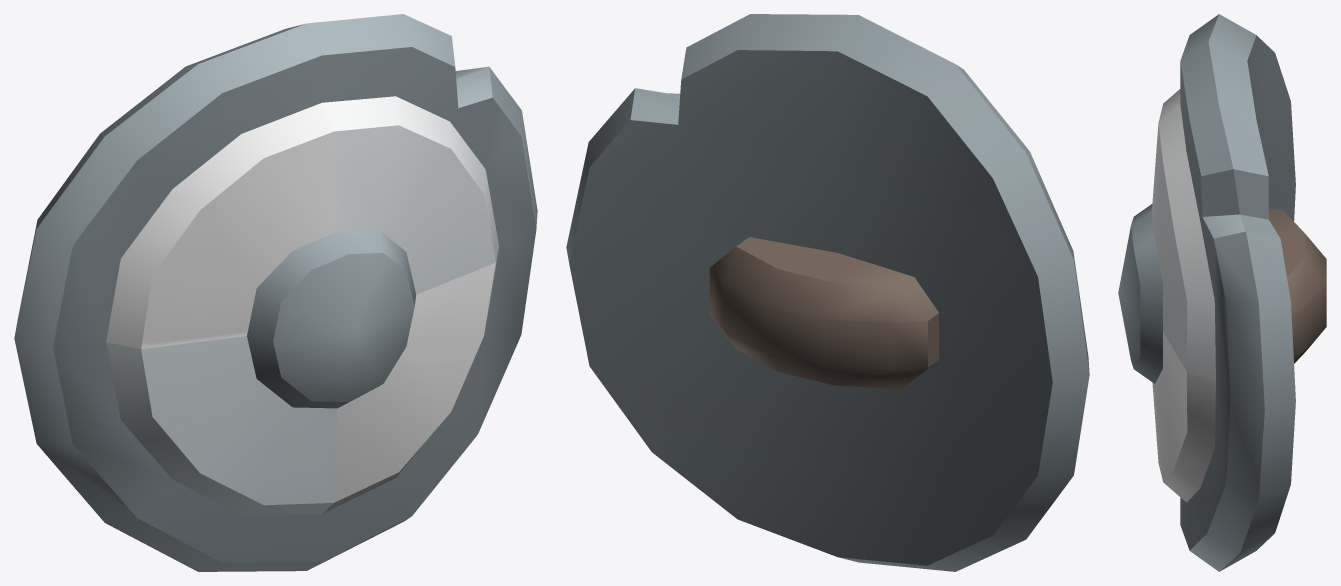
File: escudo_redondo.glb
The picture shows the model from 3 angles, left to right: view 1: azimuth 30°, elevation 25°; view 2: azimuth 150°, elevation 25°; view 3: azimuth 270°, elevation 25°; orthographic projection. The views are drawn at different scales.
Parts seen in each view (by area): view 1: shield_round_color; view 2: shield_round_color; view 3: shield_round_color.
Boxes of the visible parts, x1=… form: shield_round_color: x1=14, y1=14, x2=537, y2=571; shield_round_color: x1=566, y1=14, x2=1089, y2=571; shield_round_color: x1=1118, y1=14, x2=1326, y2=571.
Size of the model in its own units: 0.8826 by 0.8826 by 0.3319.
2 materials, 2 textured.
